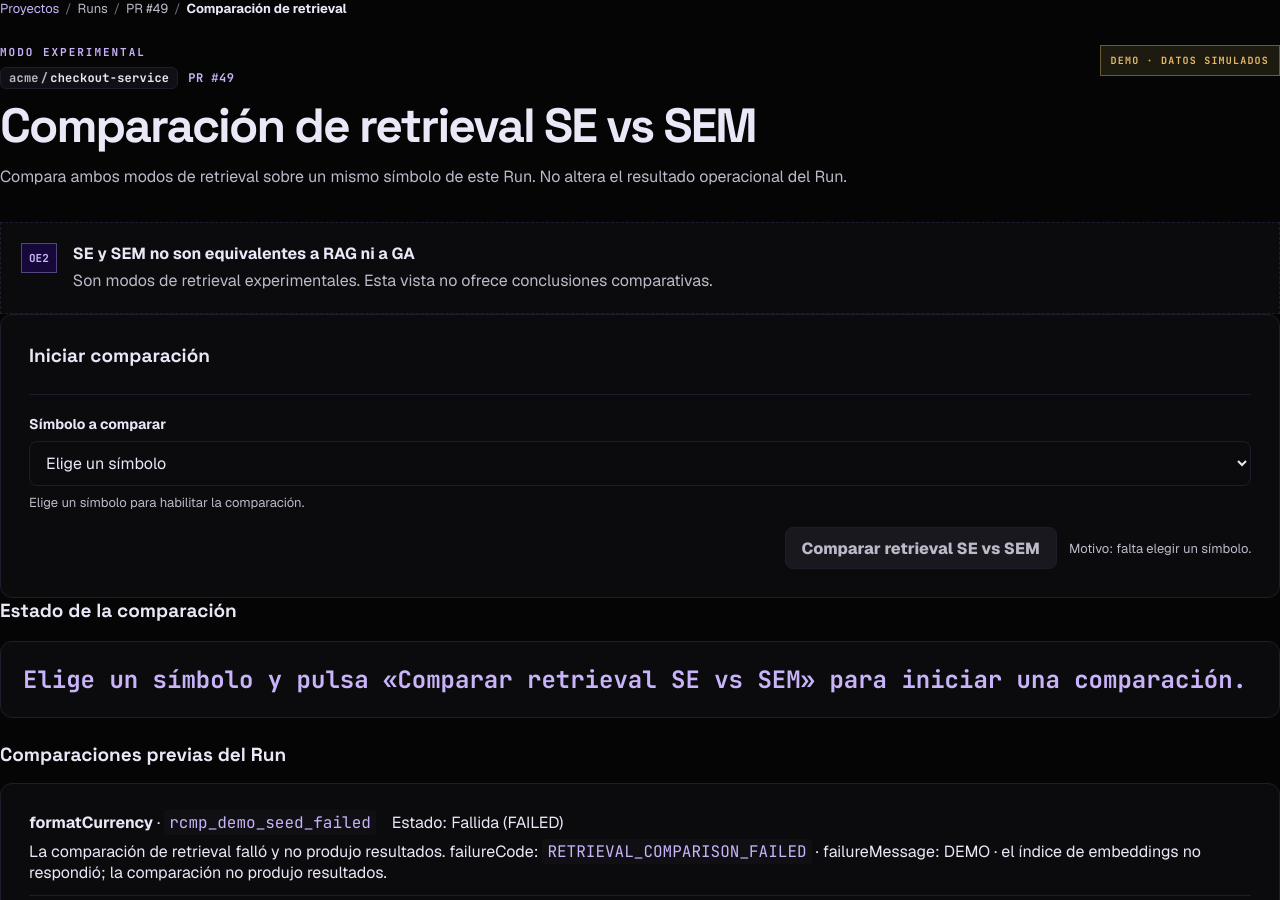
Test: RetrievalComparisonPage (WI-CONSOLE-014, Corte B) › B1: al completar, la lista de previas deja de mostrar la comparación en curso como Pendiente
Select "OrderService.createOrder · METHOD · src/domain/OrderService.ts" in the dropdown labelled "Símbolo a comparar" at (640, 464), box left=29, top=441, right=1251, bottom=486
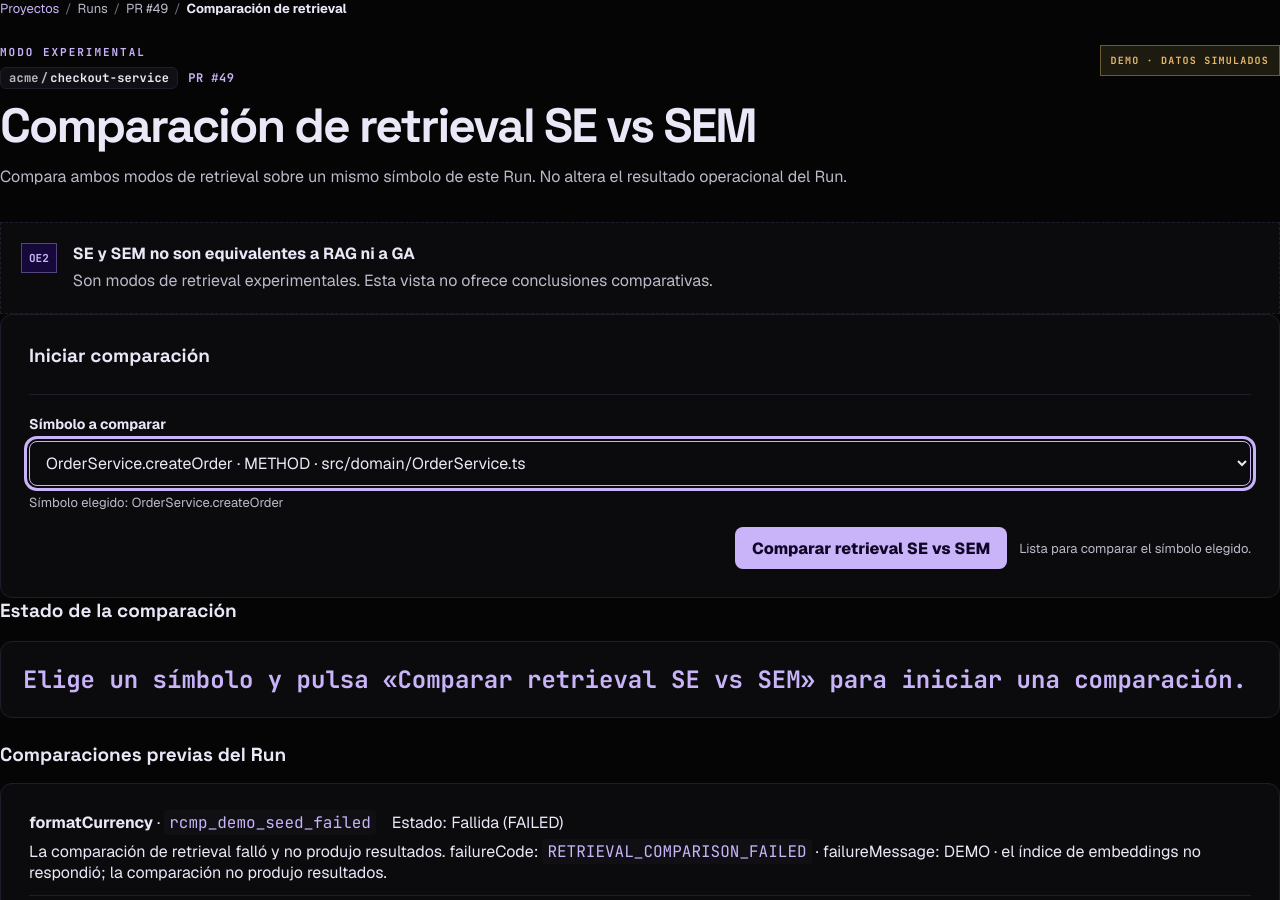
Click the button "Comparar retrieval SE vs SEM" at (871, 548), box left=735, top=527, right=1007, bottom=569
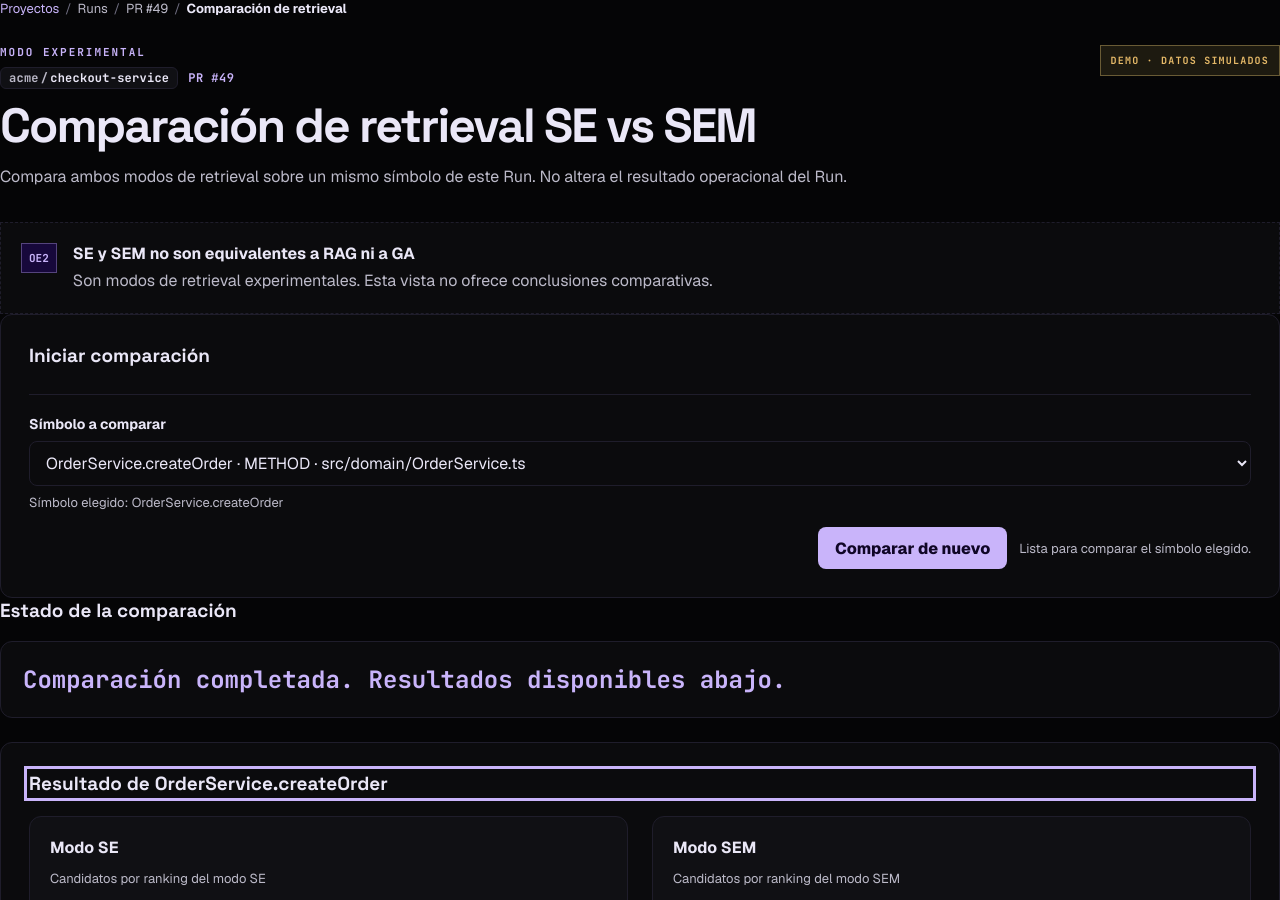
Expected: the text "Comparación completada. Resultados disponibles abajo." is shown, left=23, top=664, right=786, bottom=695
